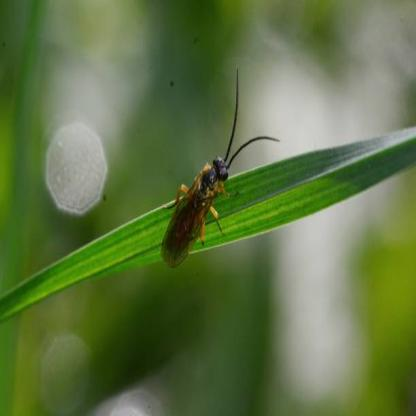sawfly: (160, 64, 283, 270)
